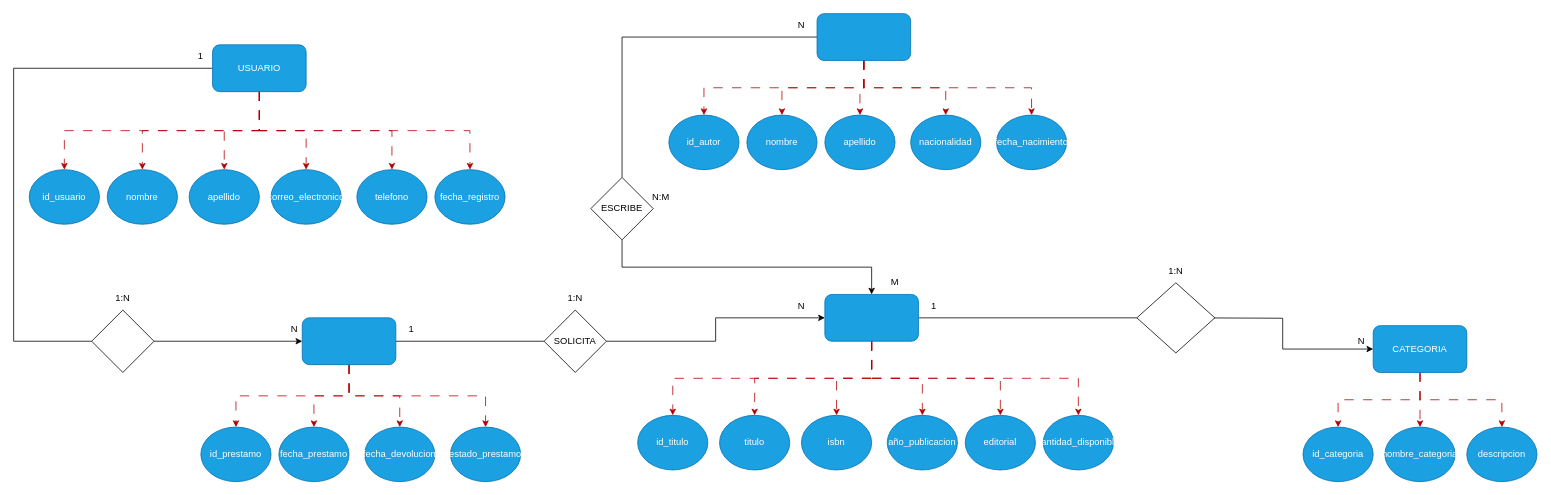
This 1551x495 diagram has some shape labels left out. The centre of each missing label's shape, as x and y in pixels:
AUTOR: the point at 863,36
LIBRO: the point at 871,317
PERTENECE A: the point at 1175,317
PRESTAMO: the point at 348,341
REALIZA: the point at 122,340
